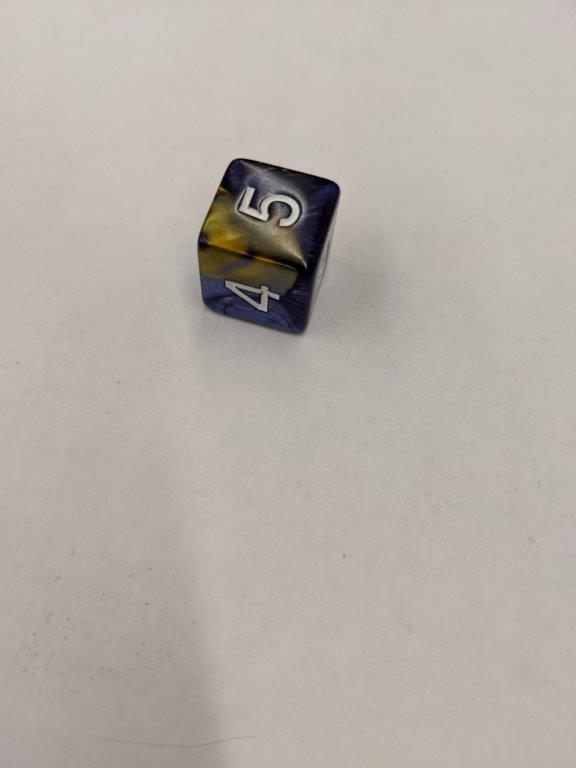d6-5: (197, 153, 343, 332)
